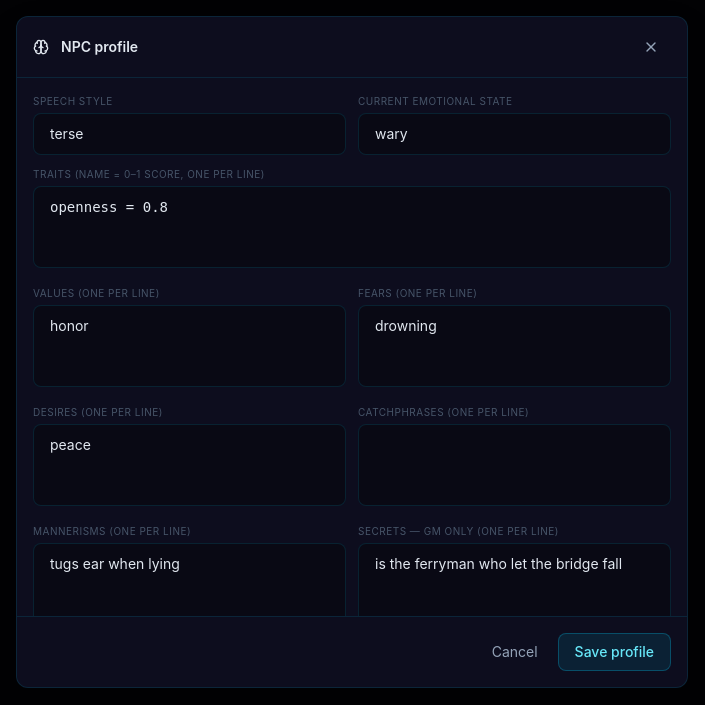
Test: NPCProfileEditor › blocks the save on a malformed trait line
Replace the text in the text box named "Traits" with "openness = 7" at point(352, 227), box [33,186,671,268]
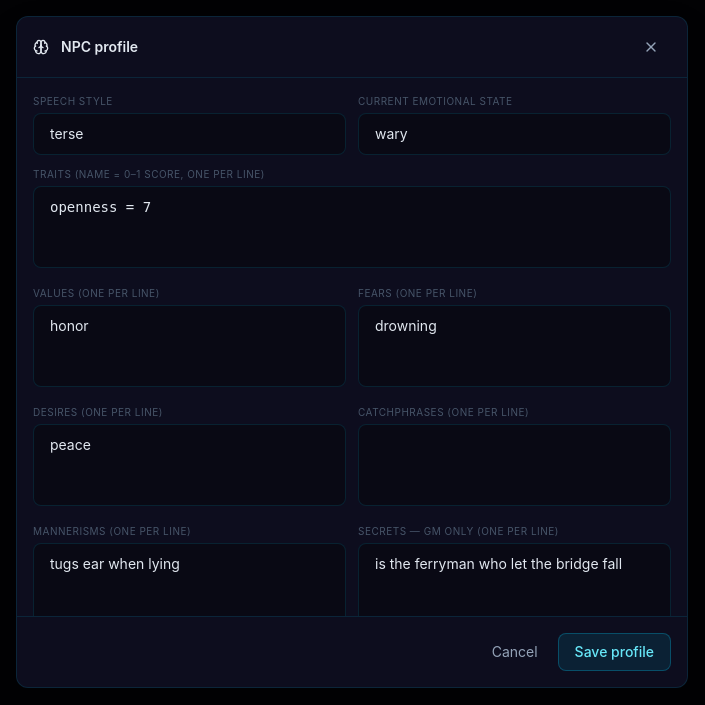
Click the button "Save profile".
click(614, 652)  # box [558,633,671,671]
(page scrolled)
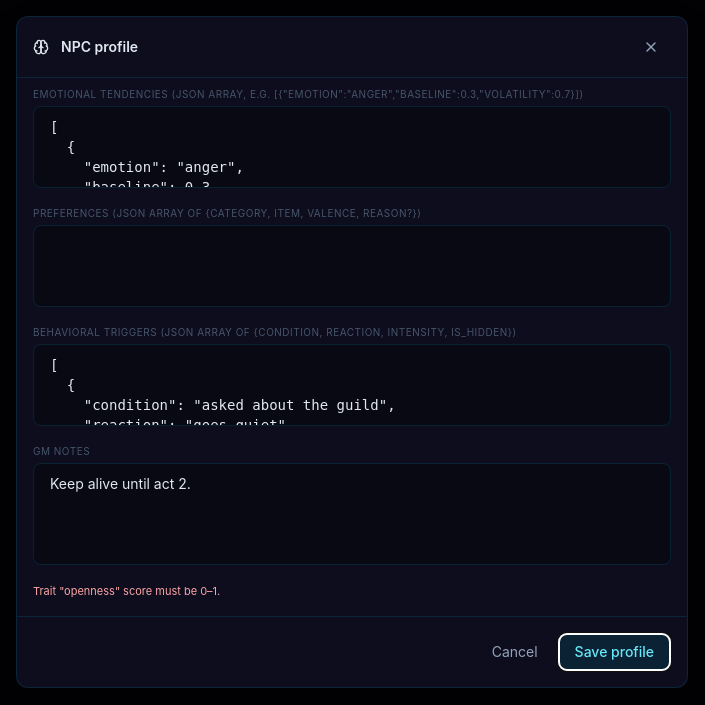
Now the text "Trait \"openness\" score must be 0–1." is shown, box [33,584,220,598]
